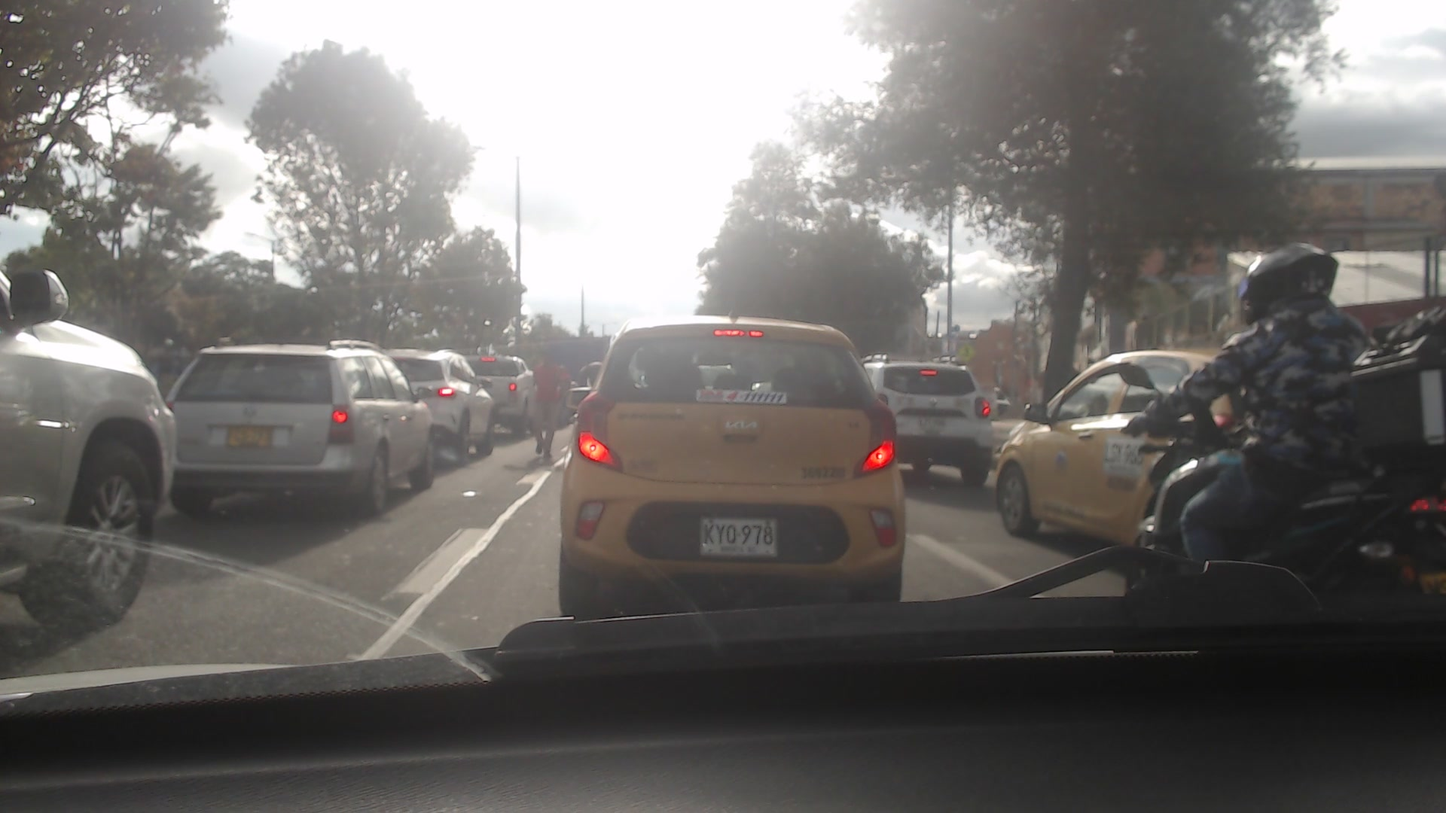car: (552, 318, 905, 610), (166, 346, 440, 512), (843, 347, 994, 484), (378, 346, 496, 456), (453, 350, 538, 431)
person: (1187, 235, 1391, 574), (523, 351, 566, 460)
